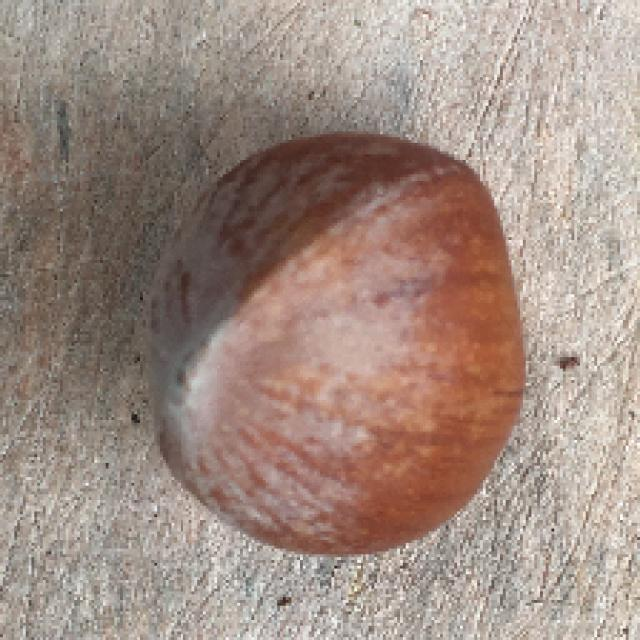QualityHazelnut: (141, 129, 533, 555)
